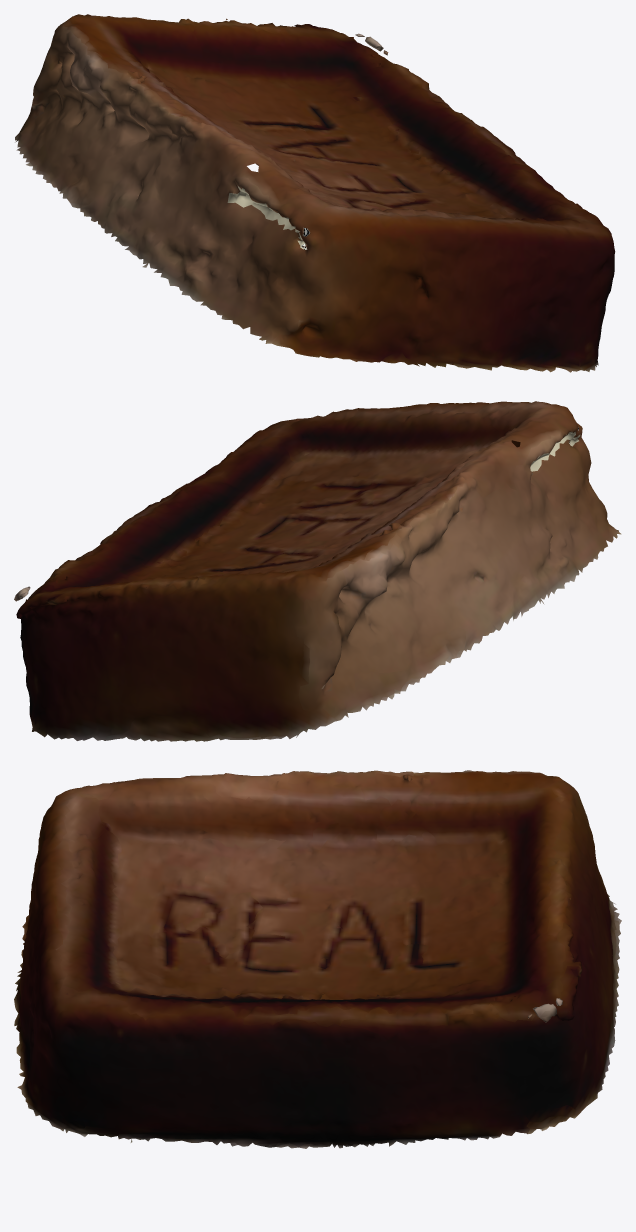
File: soap_bar.gltf
3 views of the same model, one above another, from view 1: azimuth 30°, elevation 25°; view 2: azimuth 150°, elevation 25°; view 3: azimuth 270°, elevation 25° (orthographic). The views are drawn at different scales.
Parts seen in each view (by area): view 1: model; view 2: model; view 3: model.
Boxes of the visible parts, bbox=[...] form: model: bbox=[15, 14, 615, 372]; model: bbox=[14, 401, 621, 741]; model: bbox=[14, 770, 621, 1148].
Size of the model in its own units: 1.44 by 0.8923 by 1.8.
Materials: 3 (3 with a texture image).
